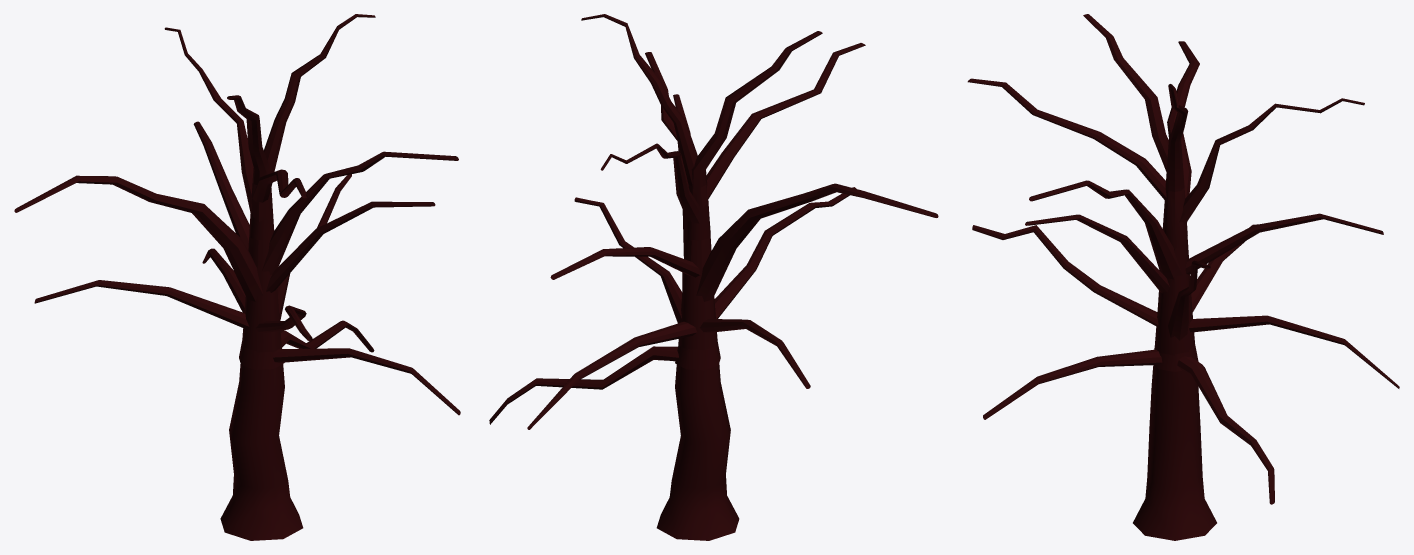
3 views of the same model, side by side, from view 1: azimuth 30°, elevation 25°; view 2: azimuth 150°, elevation 25°; view 3: azimuth 270°, elevation 25° (orthographic).
Visible parts, largest first — view 1: SM_BO_Dead_Tree_LOD0; view 2: SM_BO_Dead_Tree_LOD0; view 3: SM_BO_Dead_Tree_LOD0.
Part boxes in pixels (box(x1,y1,x2,y2)): SM_BO_Dead_Tree_LOD0: box(14, 14, 460, 540); SM_BO_Dead_Tree_LOD0: box(489, 14, 938, 540); SM_BO_Dead_Tree_LOD0: box(967, 14, 1399, 540).
Size of the model in its own units: 7.23 by 8.33 by 6.79.
